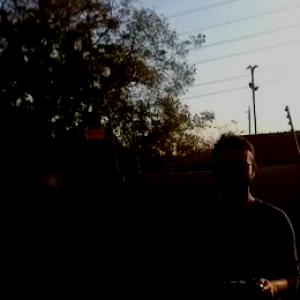follow: (186, 123, 299, 299)
